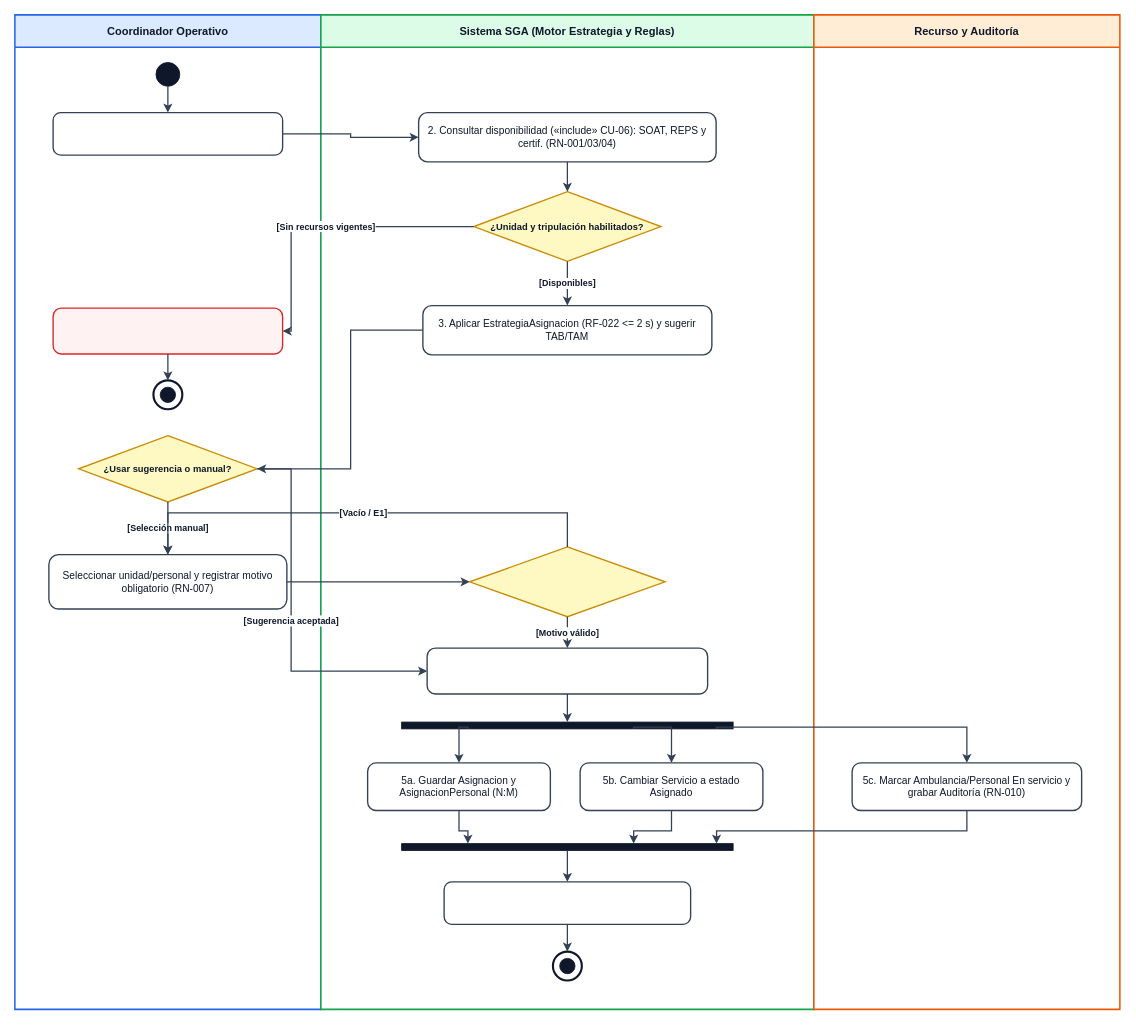
This 1136x1025 diagram has some shape labels left out. The centre of each missing label's shape, as x and y in pixels:
1. Seleccionar servicio pendiente en P-02: point (167, 133)
4. Revalidar disponibilidad sin bloqueo concurrente (E2): point (567, 670)
6. Confirmar despacho asignado al coordinador: point (567, 903)
Recibir alerta de indisponibilidad y mantener en cola (A2): point (167, 330)
¿Motivo manual válido (RN-007)?: point (567, 581)
